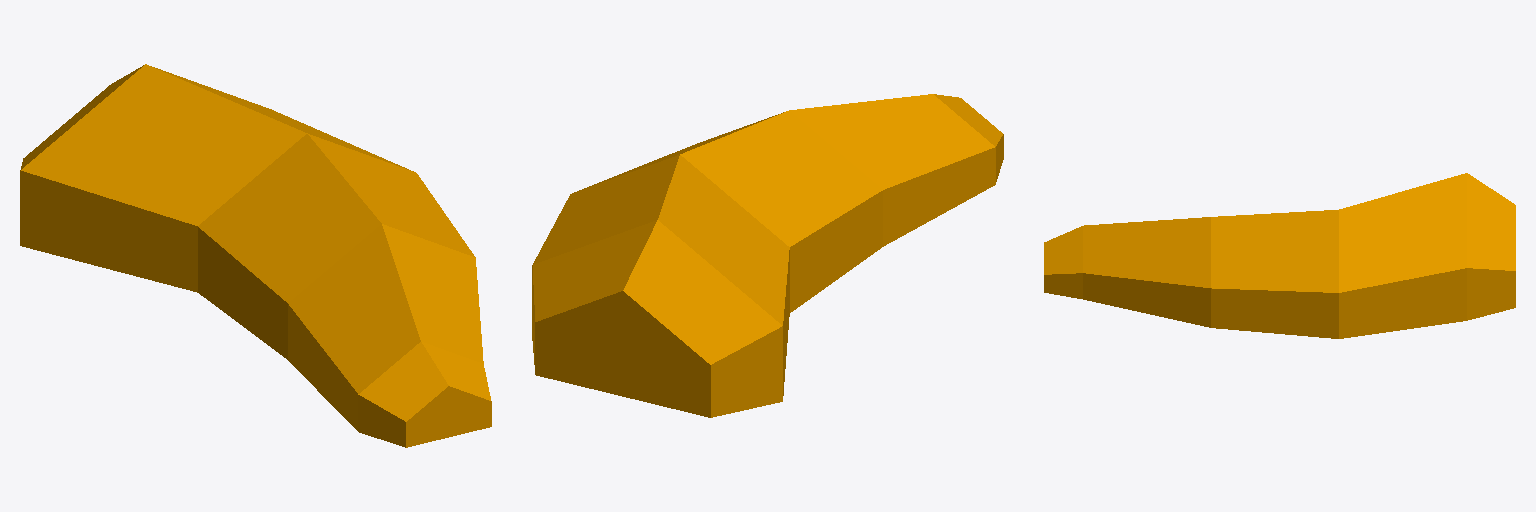
The robot description file, URDF, robot "half_jalapeno":
<?xml version="1.0"?>
<robot name="half_jalapeno">
  <link name="body">
    <inertial>
        <origin rpy="0 0 0" xyz="0 0 0"/>
        <mass value="0.01"/>
        <inertia ixx="4.4e-5" ixy="0" ixz="0" iyy="0" iyz="0" izz="4.4e-5"/>
    </inertial>
    <visual>
      <geometry>
        <mesh filename="HalfJalapeno.obj"/>
      </geometry>
    </visual>
    <collision>
      <geometry>
        <mesh filename="HalfJalapenoCollider.obj"/>
      </geometry>
      <surface>
           <bounce restitution_coefficient = "0.1"/>
      </surface>
    </collision>
  </link>
  <link name="seeds">
    <inertial>
        <origin rpy="0 0 0" xyz="0 0 0"/>
        <mass value="0.001"/>
        <inertia ixx="1.9e-5" ixy="0" ixz="0" iyy="6.8e-6" iyz="0" izz="1.2e-5"/>
    </inertial>
    <visual>
      <geometry>
        <mesh filename="jalapenoInside.obj"/>
      </geometry>
    </visual>
    <collision>
      <geometry>
        <mesh filename="jalapenoInsideCollider.obj"/>
      </geometry>
      <surface>
           <bounce restitution_coefficient = "0.1"/>
      </surface>
    </collision>
  </link>
  <joint name="body_to_seeds" type="fixed">
    <parent link="body"/>
    <child link="seeds"/>
    <origin rpy="0 0 0" xyz="0 0 0"/>
  </joint>
</robot>

--- Facts derived from the render (not from the file) ---
The picture shows the robot from 3 angles, left to right: view 1: azimuth 30°, elevation 25°; view 2: azimuth 150°, elevation 25°; view 3: azimuth 270°, elevation 25°; orthographic projection.
Model half_jalapeno with 2 links and 1 joints (1 fixed), rooted at body, posed every joint at zero.
Links seen in each view (by area): view 1: body; view 2: body; view 3: body.
Link boxes in pixels (bbox=[...]): body: bbox=[20, 64, 491, 447]; body: bbox=[532, 94, 1003, 417]; body: bbox=[1044, 173, 1515, 338].
Size in the robot's own frame: 0.0631 by 0.1214 by 0.03 metres.
Meshes: 2 distinct files referenced, 1 mesh visuals loaded (1 OBJ); not drawn: 1 (reference not matched to a file when rendering).
